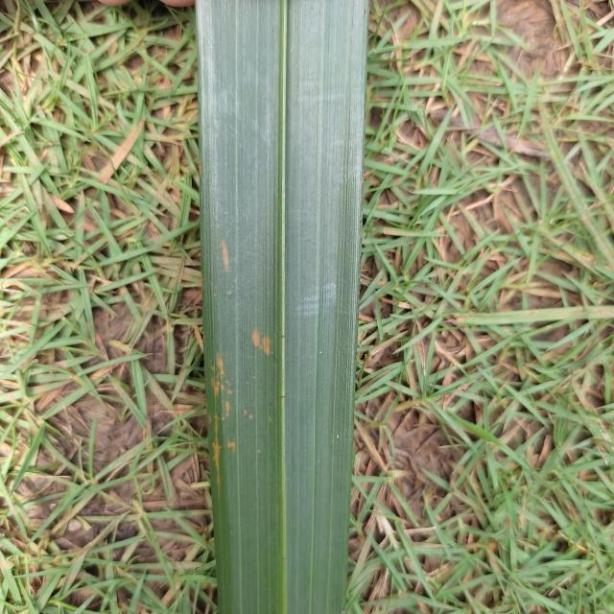Kalium: (195, 0, 361, 614)
